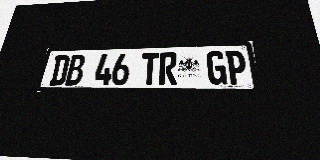4: (94, 54, 114, 85)
6: (111, 53, 131, 85)
B: (65, 55, 86, 86)
D: (48, 55, 70, 86)
G: (206, 51, 227, 85)
P: (225, 50, 248, 85)
R: (159, 52, 177, 85)
T: (140, 53, 159, 85)
